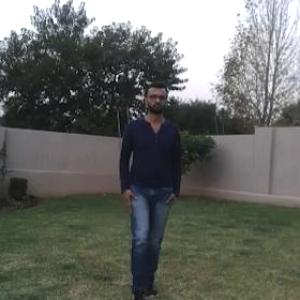follow: (117, 80, 178, 294)
